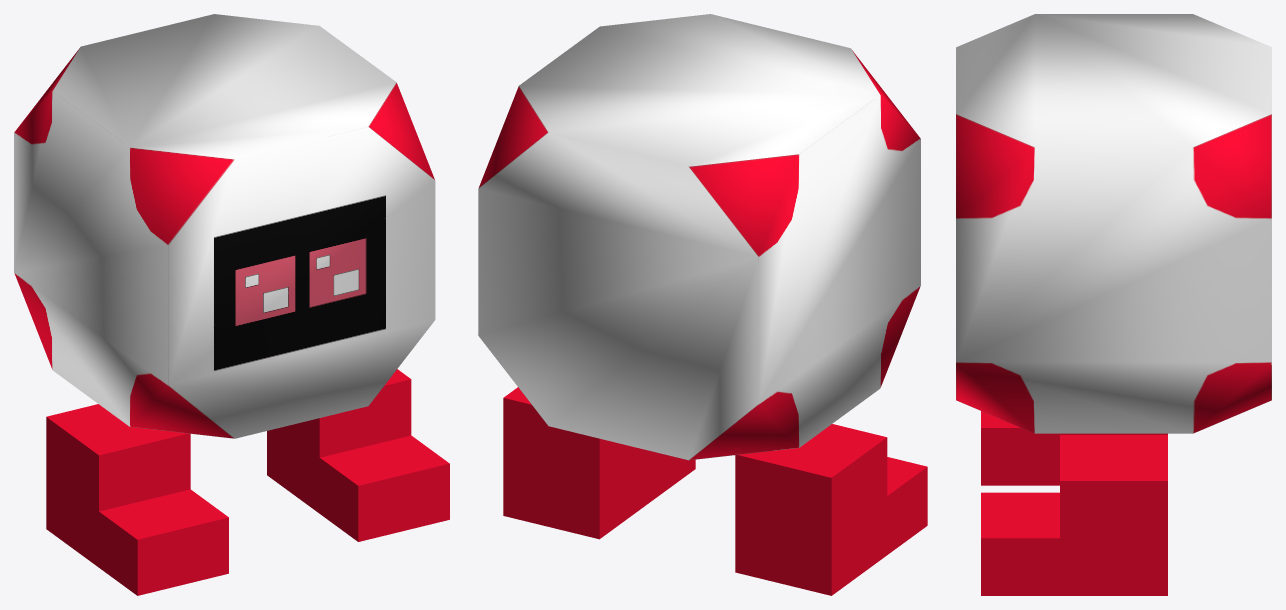
Rendered from Player 2.fbx.
The picture shows the model from 3 angles, left to right: view 1: azimuth 30°, elevation 25°; view 2: azimuth 150°, elevation 25°; view 3: azimuth 270°, elevation 25°; orthographic projection. The views are drawn at different scales.
Visible parts, largest first — view 1: pCube1, pCube2, pCube3; view 2: pCube1, pCube2, pCube3; view 3: pCube1, pCube3, pCube2.
Part boxes in pixels (<box>): pCube1: <box>14,14,435,438</box>; pCube2: <box>46,404,228,595</box>; pCube3: <box>267,369,449,541</box>; pCube1: <box>478,14,920,460</box>; pCube2: <box>735,424,927,595</box>; pCube3: <box>503,387,695,539</box>; pCube1: <box>956,14,1271,433</box>; pCube3: <box>981,435,1167,595</box>; pCube2: <box>981,411,1167,485</box>.
Bounding box in the file's own units: 1.17 × 1.52 × 1.
